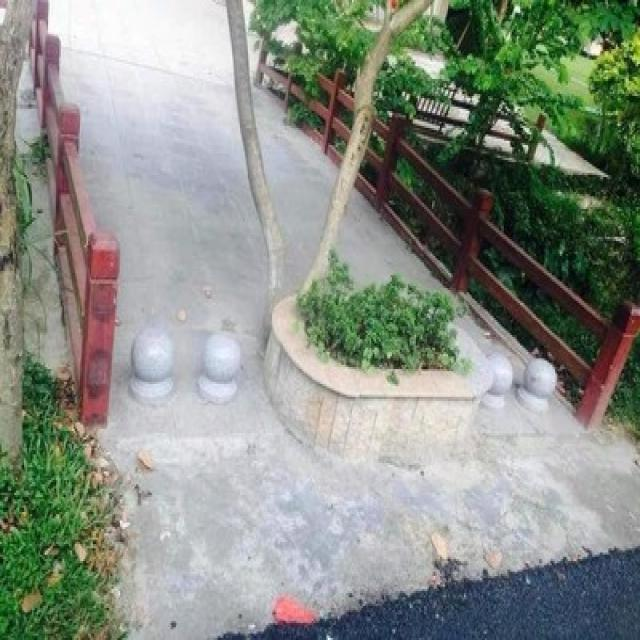spherical_roadblock: (126, 324, 173, 403), (192, 331, 240, 401), (515, 354, 555, 410), (485, 348, 510, 405)
